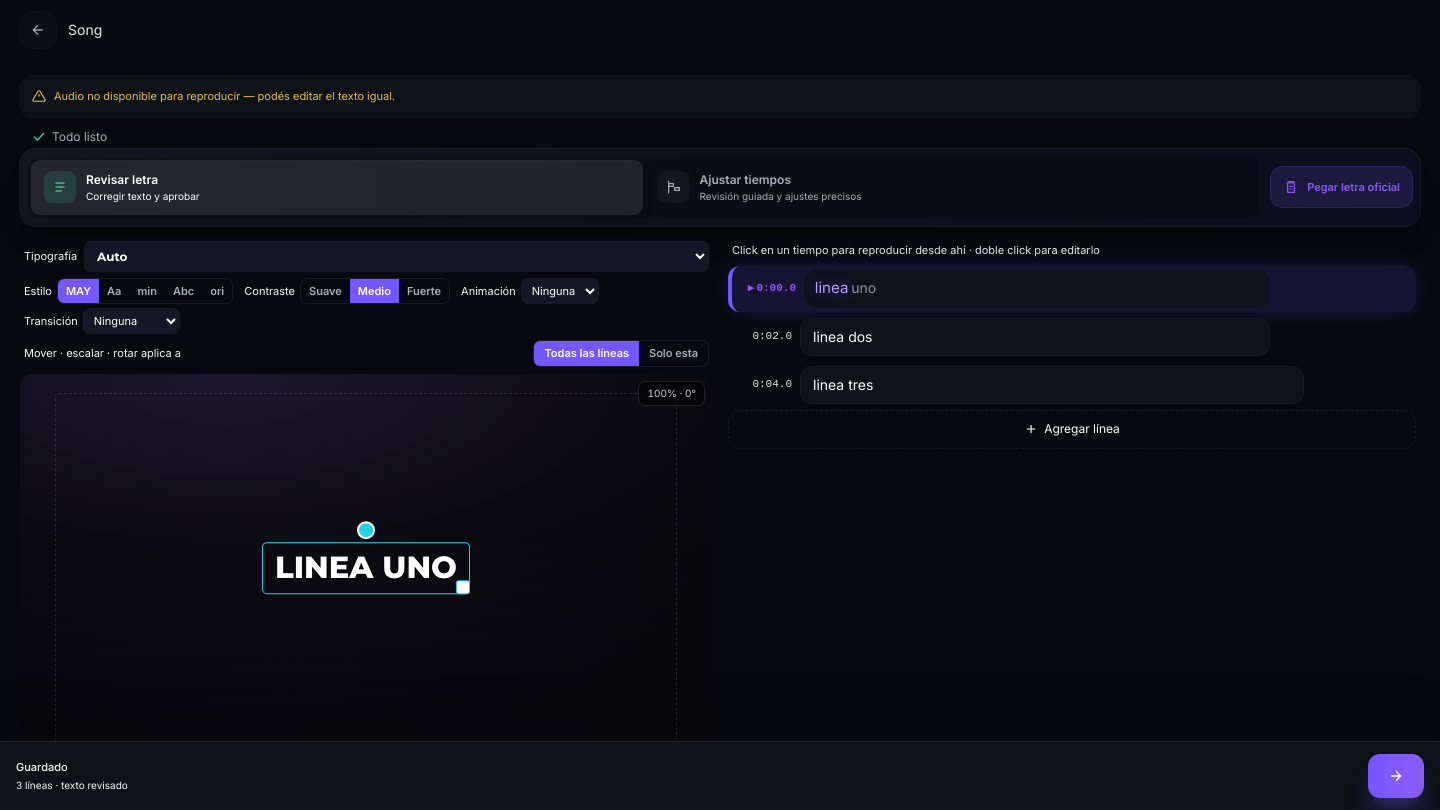
Test: Botón visible 'Pegar letra oficial' (2026-09-14) › aparece en la pestaña de texto (vista por defecto) y abre el modal sin pasar por Herramientas
Note: …pero el CTA sí está.
Click the button with test id "paste-lyrics-cta".
click(1342, 187)  # box [1271,167,1412,207]
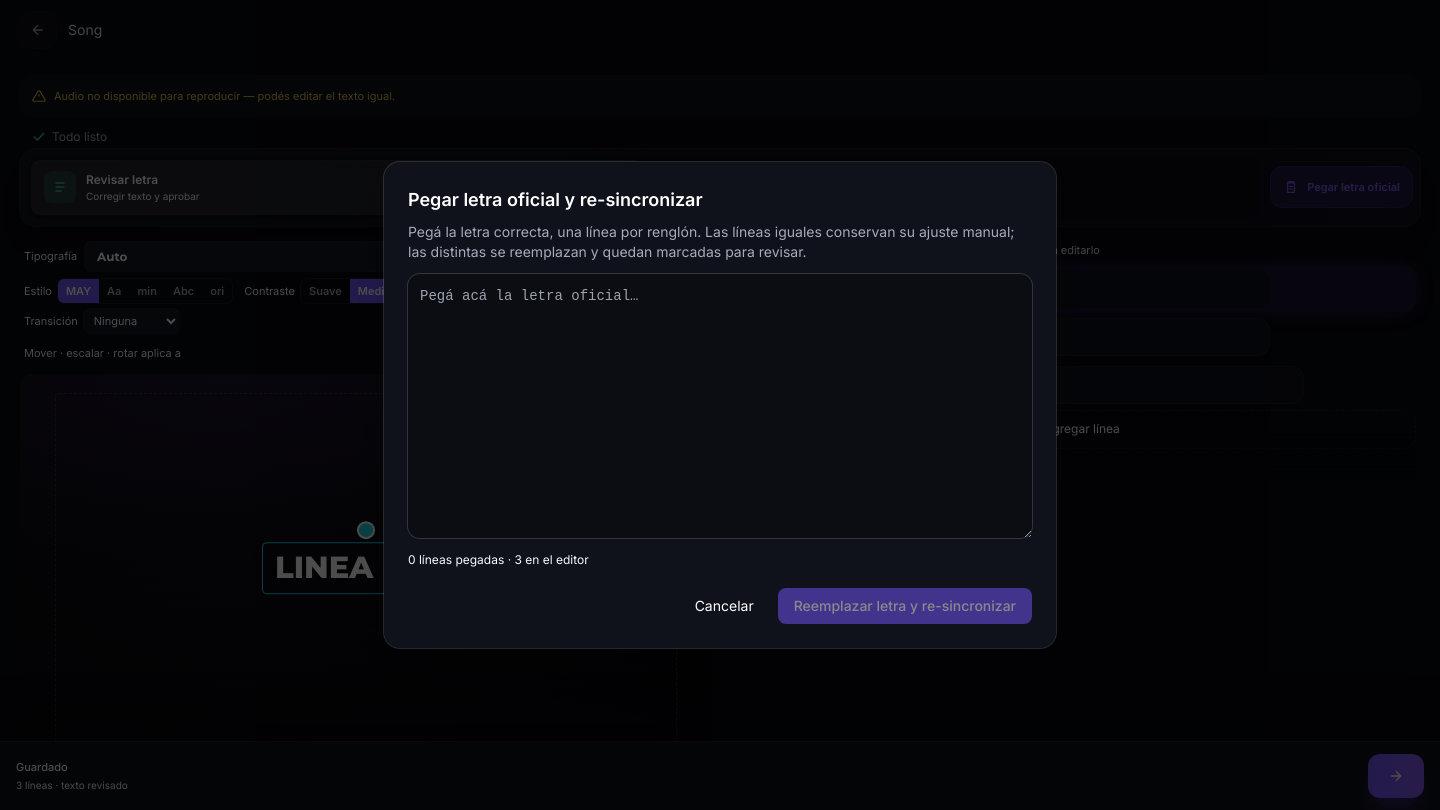
Check: the text box with test id "paste-lyrics-textarea" is shown, box [408,274,1032,538]
